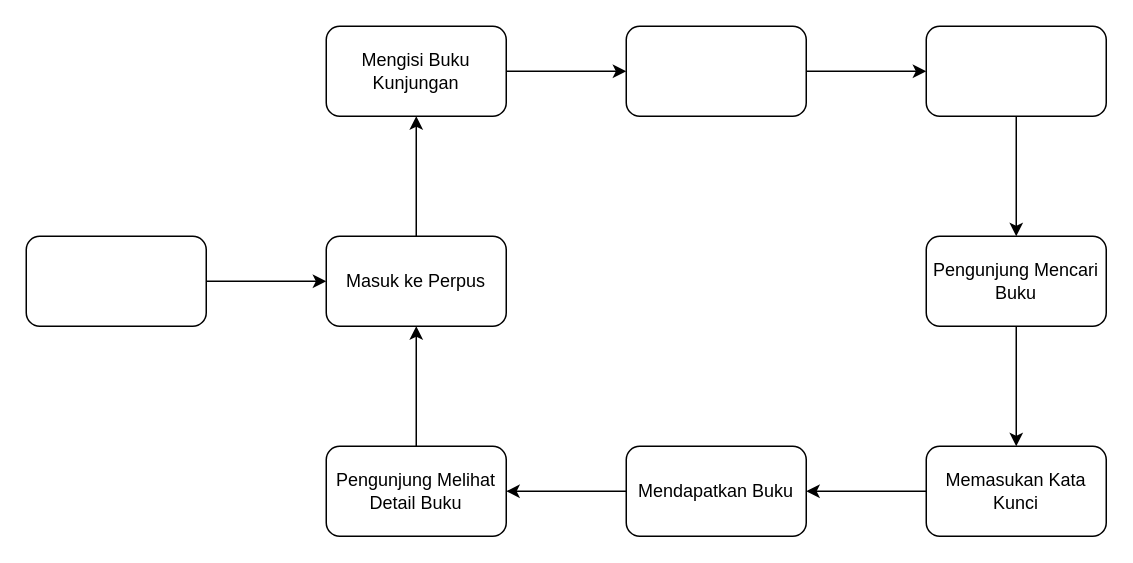
The diagram is 1133 pixels wide and 563 high, and some of its shapes have lost their labels. Here are the shapes that lost their labels. From the top down, the centre of each, then its label:
At point 715,70: "KIrim".
At point 1015,70: "Daftar Pengunjung".
At point 115,280: "Pengunjung Perpus".
